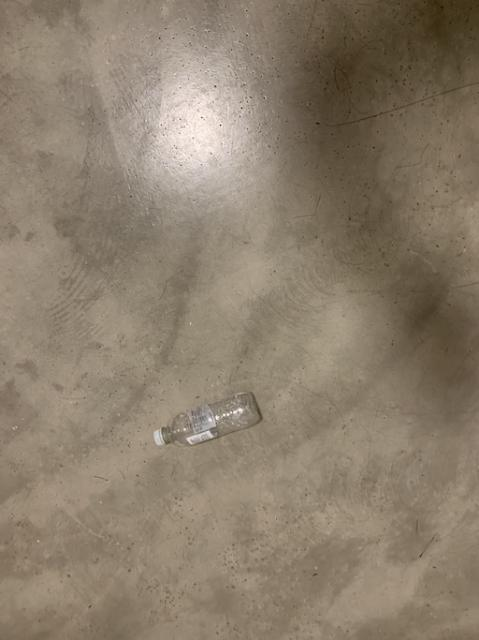plastic: (153, 392, 259, 444)
